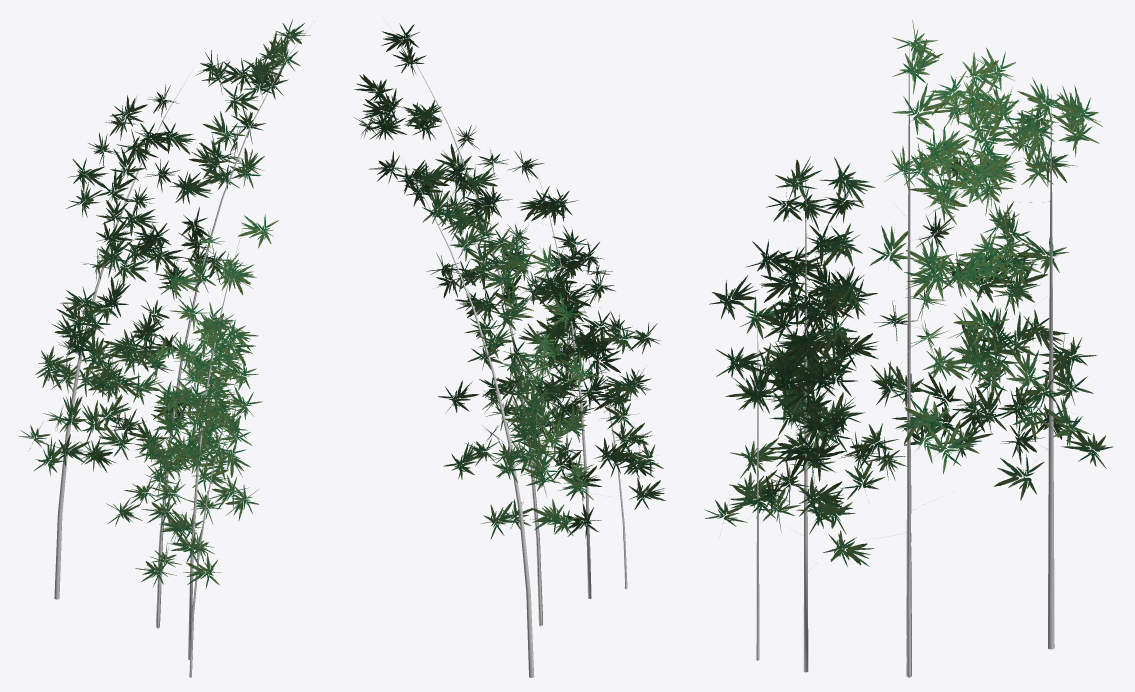
File: bamboo.fbx
3 renders of one model, left to right at view 1: azimuth 30°, elevation 25°; view 2: azimuth 150°, elevation 25°; view 3: azimuth 270°, elevation 25°, orthographic. The views are drawn at different scales.
Visible parts, largest first — view 1: Plane.002, bamboo_trunk; view 2: Plane.002, bamboo_trunk; view 3: Plane.002, bamboo_trunk.
Part boxes in pixels (x1,y1,x2,y2): Plane.002: (18, 19, 310, 588); bamboo_trunk: (54, 21, 314, 677); Plane.002: (354, 23, 665, 539); bamboo_trunk: (385, 21, 631, 677); Plane.002: (704, 20, 1113, 566); bamboo_trunk: (732, 41, 1100, 677).
Bounding box in the file's own units: 5.11 × 11.14 × 5.75.
